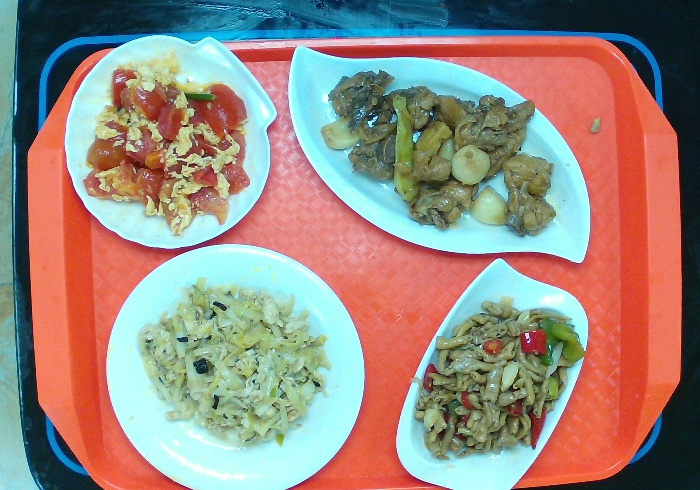RJxy-Bei_Ke_Wan: (63, 32, 279, 250)
RJxy-Jian_Jiao_Fang_Die: (393, 256, 590, 490)
RJxy-Jian_Jiao_Pan: (285, 43, 592, 266)
RJxy-Yuan_Pan: (104, 241, 366, 490)
